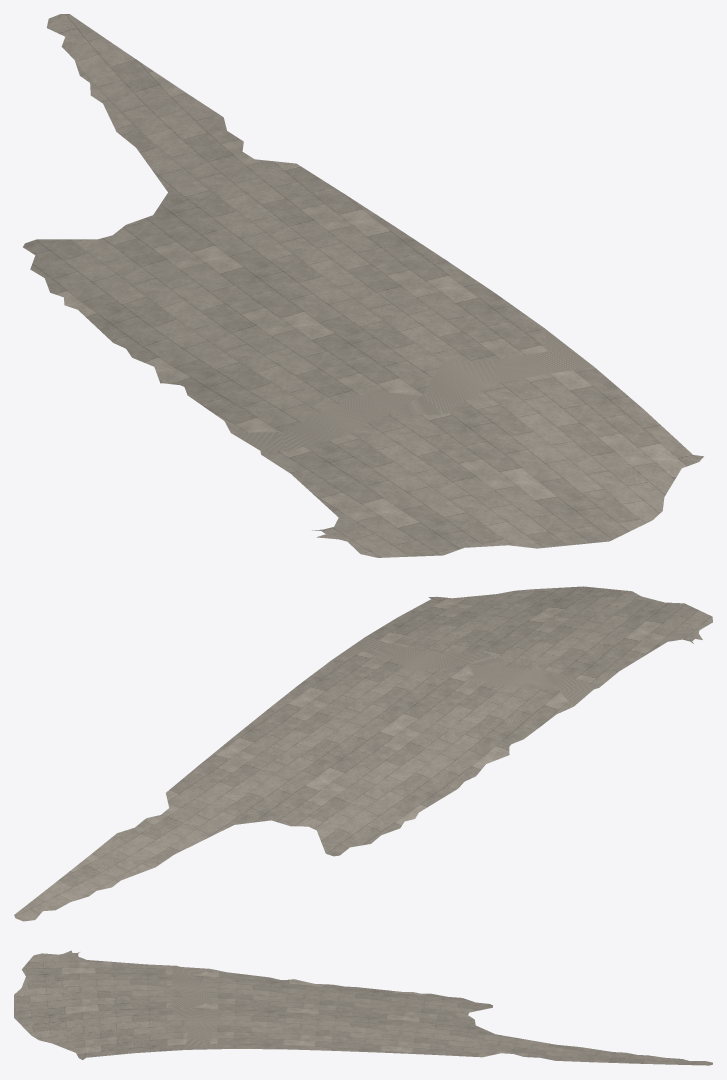
Rendered from plaza_02.gltf.
3 views of the same model, one above another, from view 1: azimuth 30°, elevation 25°; view 2: azimuth 150°, elevation 25°; view 3: azimuth 270°, elevation 25° (orthographic). The views are drawn at different scales.
Visible parts, largest first — view 1: plaza_02.surface; view 2: plaza_02.surface; view 3: plaza_02.surface.
Boxes of the visible parts, left/top/right/bottom form: plaza_02.surface: left=23, top=14, right=703, bottom=557; plaza_02.surface: left=14, top=586, right=712, bottom=921; plaza_02.surface: left=14, top=950, right=712, bottom=1065.
Bounding box in the file's own units: 10.17 × 1.16 × 30.83.
Materials: 1 (1 with a texture image).
